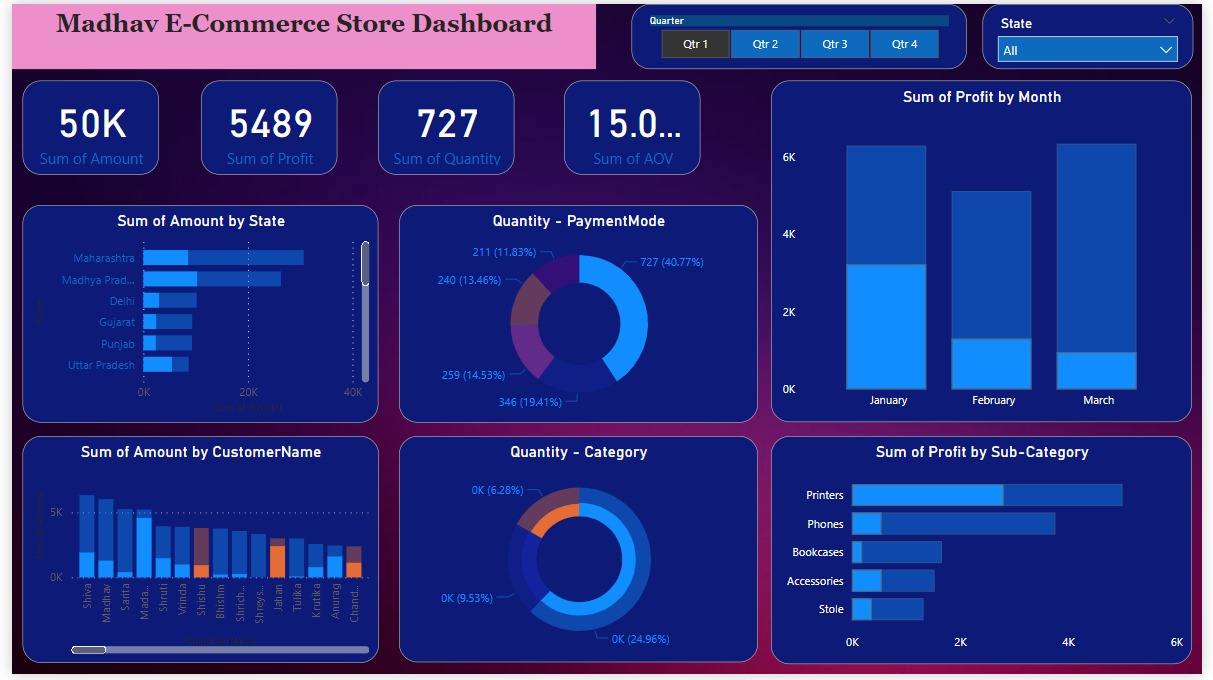

The page's visual inventory and layout, read from the dashboard file:
{"tool":"powerbi","page":{"name":"Madhav_Report","canvas":[1280,720],"ordinal":0},"visuals":[{"type":"columnChart","fields":{"Y":["Details.Profit"],"Category":["Orders.Order Date.Variation.Date Hierarchy.Month"]},"box":[816.8,82.8,452.9,367],"z":0},{"type":"textbox","box":[0,0,627.9,70.3],"z":1000},{"type":"clusteredBarChart","fields":{"Category":["Details.Sub-Category"],"Y":["Details.Profit"]},"box":[816.8,463.9,452.9,245.2],"z":2000},{"type":"donutChart","title":"Quantity - Category","fields":{"Y":["Details.Quantity"],"Category":["Details.Category"]},"box":[415.4,463.9,385.8,243.6],"z":3000},{"type":"donutChart","title":"Quantity - PaymentMode","fields":{"Y":["Details.Quantity"],"Category":["Details.PaymentMode"]},"box":[415.4,215.5,385.8,234.3],"z":4000},{"type":"card","fields":{"Values":["Details.Amount"]},"box":[10.9,82.8,146.8,101.5],"z":5000},{"type":"card","fields":{"Values":["Details.Profit"]},"box":[203,82.8,146.8,101.5],"z":6000},{"type":"card","fields":{"Values":["Details.AOV"]},"box":[593.5,82.8,146.8,101.5],"z":7000},{"type":"card","fields":{"Values":["Details.Quantity"]},"box":[393.6,82.8,146.8,101.5],"z":8000},{"type":"clusteredBarChart","fields":{"Y":["Details.Amount"],"Category":["Orders.State"]},"box":[11,215.4,382.9,233.8],"z":8001},{"type":"columnChart","fields":{"Y":["Details.Amount"],"Category":["Orders.CustomerName"]},"box":[11,464,383,244],"z":8002},{"type":"slicer","fields":{"Values":["Orders.Order Date.Variation.Date Hierarchy.Quarter"]},"box":[666.9,0,360.8,70.3],"z":8003},{"type":"slicer","fields":{"Values":["Orders.State"]},"box":[1043.3,0,226.5,70.3],"z":8004}]}

Visuals, with their boxes in screenshot pixels (x1, y1, x2, y2), scaled from the page's 1280x720 canvas onto the 1213x680 screenshot:
columnChart - Details.Profit x Orders.Order Date.Variation.Date Hierarchy.Month: left=774, top=78, right=1203, bottom=425
textbox: left=0, top=0, right=595, bottom=66
clusteredBarChart - Details.Sub-Category x Details.Profit: left=774, top=438, right=1203, bottom=670
"Quantity - Category" donutChart: left=394, top=438, right=759, bottom=668
"Quantity - PaymentMode" donutChart: left=394, top=204, right=759, bottom=425
card - Details.Amount: left=10, top=78, right=149, bottom=174
card - Details.Profit: left=192, top=78, right=331, bottom=174
card - Details.AOV: left=562, top=78, right=702, bottom=174
card - Details.Quantity: left=373, top=78, right=512, bottom=174
clusteredBarChart - Details.Amount x Orders.State: left=10, top=203, right=373, bottom=424
columnChart - Details.Amount x Orders.CustomerName: left=10, top=438, right=373, bottom=669
slicer - Orders.Order Date.Variation.Date Hierarchy.Quarter: left=632, top=0, right=974, bottom=66
slicer - Orders.State: left=989, top=0, right=1203, bottom=66
